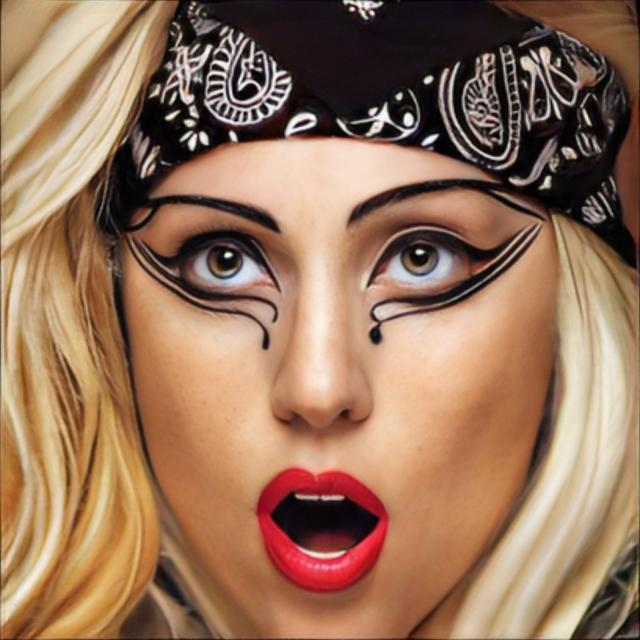surprise: (118, 132, 559, 640)
